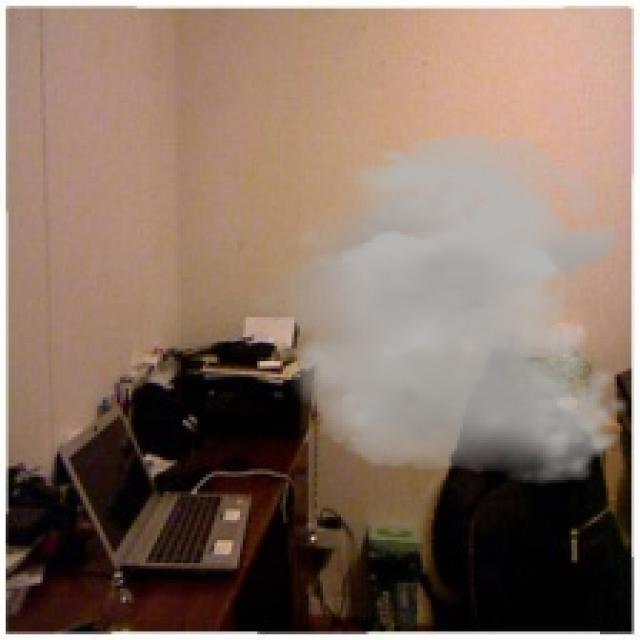Smoke: (239, 134, 632, 486)
